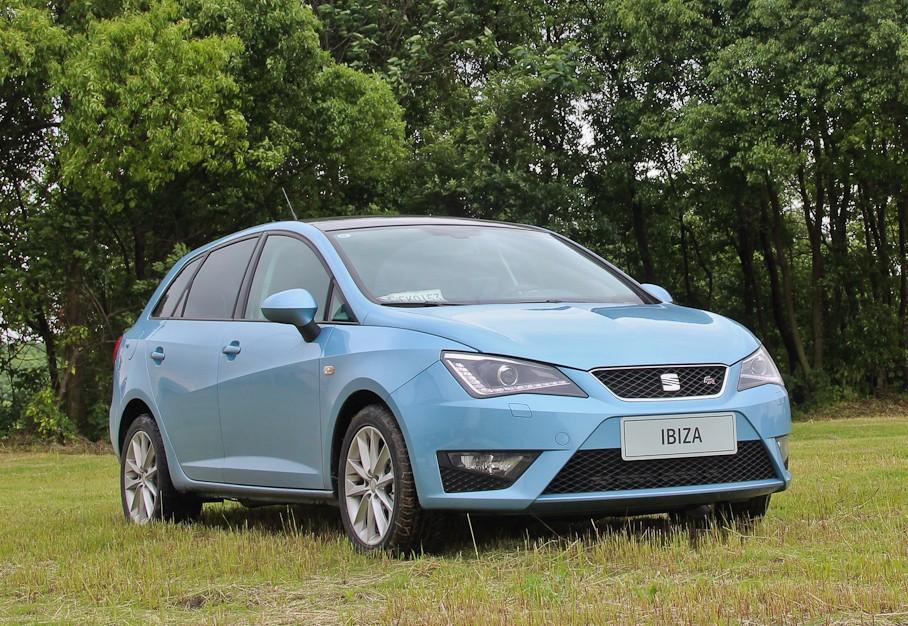Wagon: (108, 215, 792, 559)
